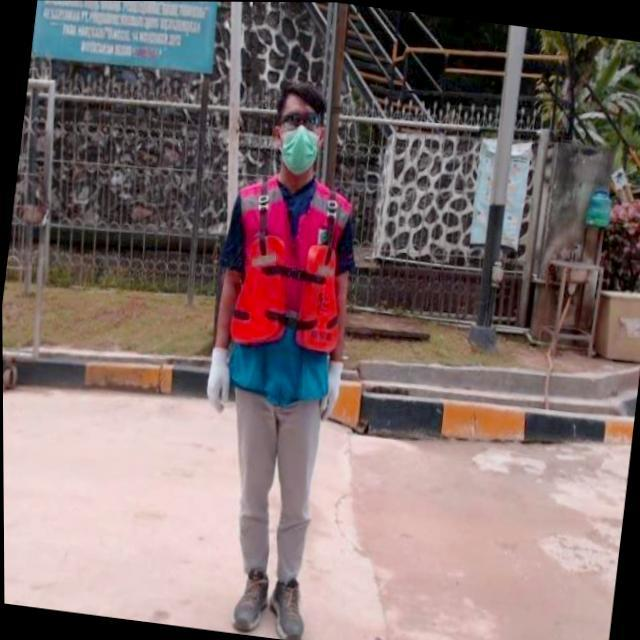goggles_on: (274, 106, 327, 134)
